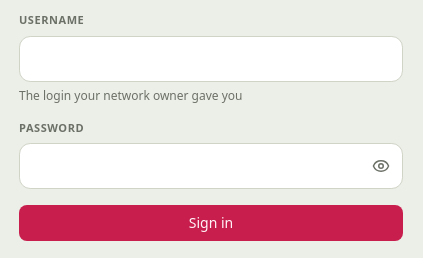
Test case: LoginForm › unmasks the typed password on the eye, and re-masks it
In the password field labelled "Password": (211, 166) [19,143,403,189], type "hunter2!!"
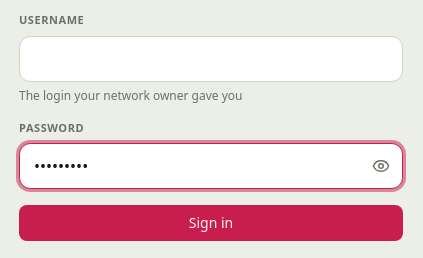
Click the button named "Show password": (381, 166) [359,143,403,189]
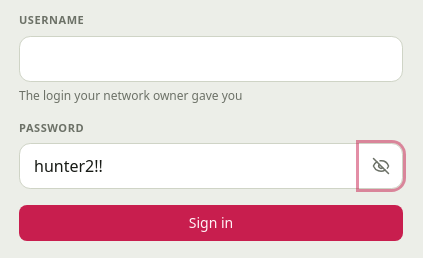
Now the field labelled "Password" shows its text, box [19,143,403,189]
Click the button named "Hide password": (381, 166) [359,143,403,189]
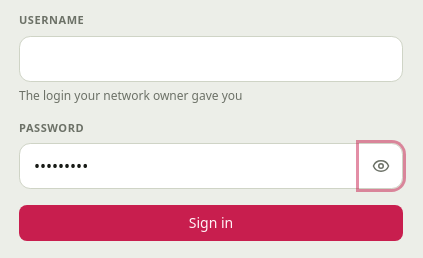
Now the password field labelled "Password" hides its text, box [19,143,403,189]
